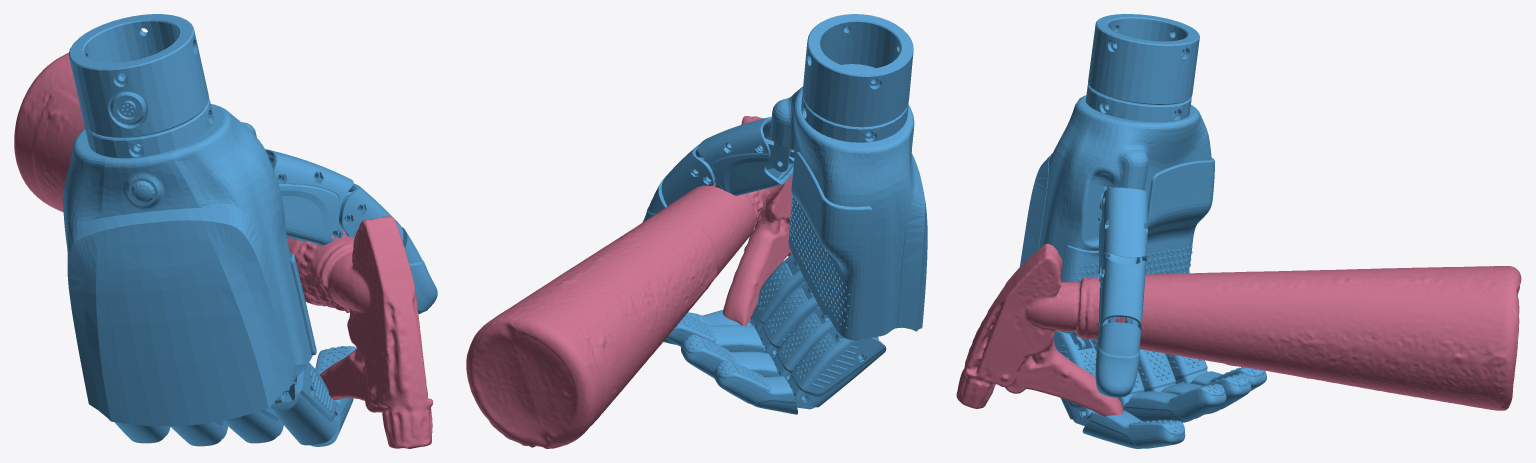
3 renders of one model, left to right at view 1: azimuth 30°, elevation 25°; view 2: azimuth 150°, elevation 25°; view 3: azimuth 270°, elevation 25°, orthographic. The views are drawn at different scales.
Parts seen in each view (by area): view 1: 6; view 2: 6; view 3: 6.
Part boxes in pixels (x1,y1,x2,y2): 6: (14,14,437,448); 6: (466,14,927,448); 6: (956,14,1521,448).
Size of the model in its own units: 0.1591 by 0.1908 by 0.2685.
